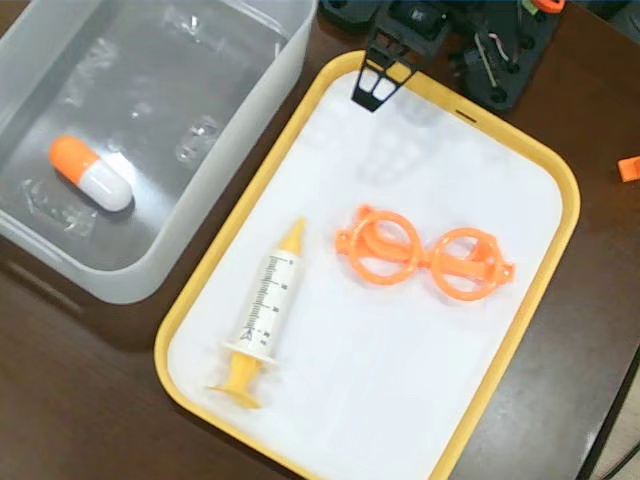pill: (47, 132, 132, 212)
syringe: (205, 217, 307, 408)
